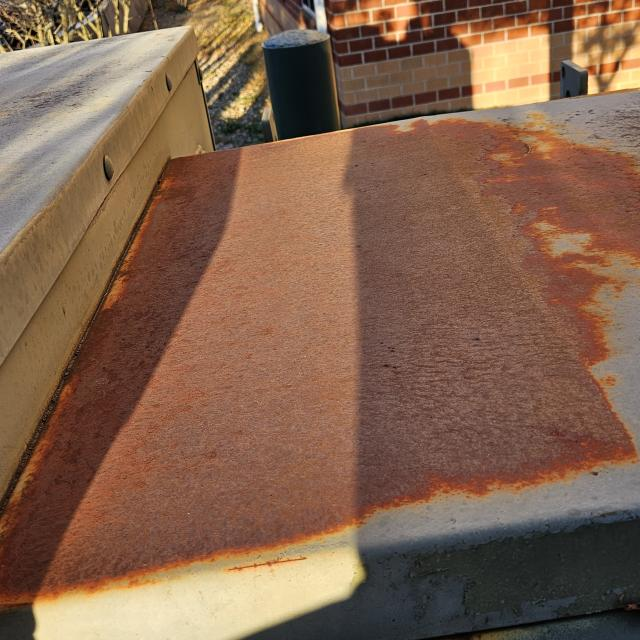Uniform Corrosion: (1, 122, 639, 601)
